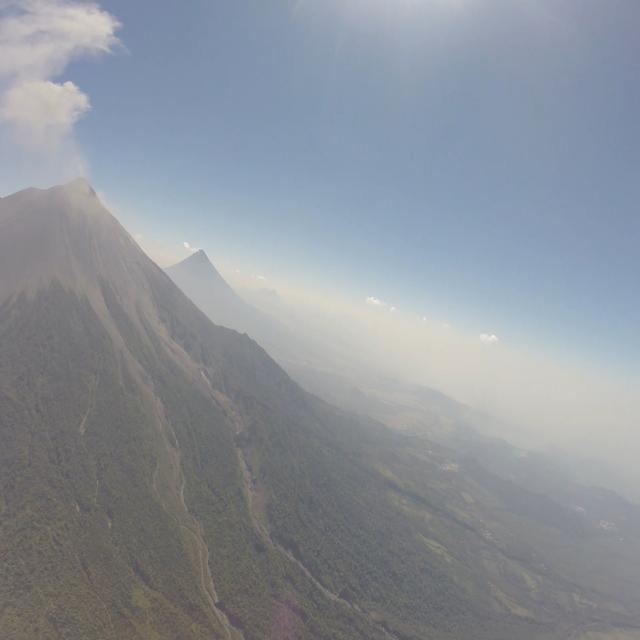Plume: (0, 1, 126, 75), (0, 74, 96, 150)
Summit: (60, 164, 100, 196)
